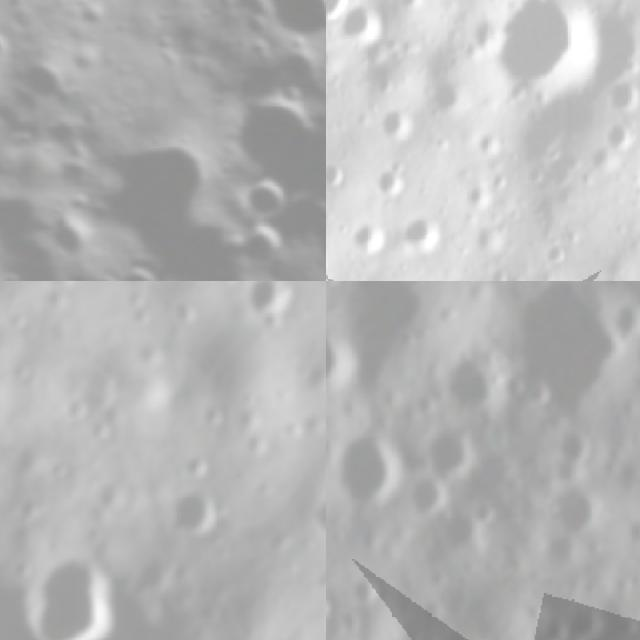crater: (193, 9, 326, 281), (492, 281, 633, 417), (493, 0, 598, 101), (35, 545, 128, 640), (427, 332, 511, 426), (326, 419, 409, 513), (420, 484, 495, 558), (8, 44, 80, 118), (249, 0, 326, 61), (540, 476, 608, 542), (455, 434, 522, 500), (229, 215, 294, 281), (586, 0, 640, 79), (240, 164, 304, 230), (421, 414, 484, 478), (537, 418, 597, 478), (73, 351, 128, 416), (166, 481, 233, 533), (326, 312, 368, 392), (42, 207, 99, 265), (402, 463, 458, 518), (336, 558, 395, 609), (233, 281, 300, 325), (557, 597, 611, 640), (394, 212, 446, 255), (337, 0, 386, 44), (605, 287, 640, 347), (373, 158, 411, 206), (466, 15, 504, 61), (430, 70, 468, 115), (114, 255, 173, 281), (602, 78, 640, 114), (302, 488, 326, 542), (350, 219, 384, 254), (381, 106, 412, 144), (602, 119, 633, 151), (466, 182, 495, 212), (478, 222, 507, 251), (478, 127, 508, 155), (326, 0, 353, 26), (0, 0, 33, 16), (545, 239, 567, 263), (326, 161, 345, 184)
